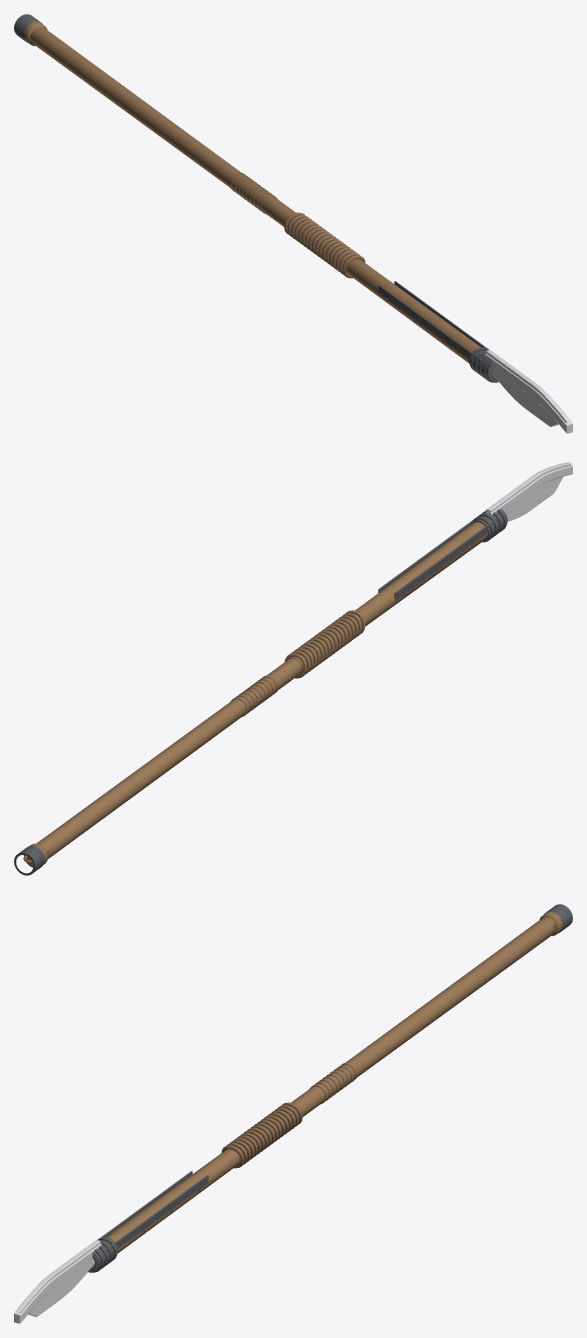
File: spear-0.glb
The picture shows the model from 3 angles, top to bottom: view 1: azimuth 30°, elevation 25°; view 2: azimuth 150°, elevation 25°; view 3: azimuth 330°, elevation 25°; orthographic projection.
Visible parts, largest first — view 1: spear; view 2: spear; view 3: spear.
Part boxes in pixels (x1=…): spear: x1=14, y1=14, x2=572, y2=433; spear: x1=14, y1=462, x2=572, y2=875; spear: x1=14, y1=904, x2=572, y2=1323.
Bounding box in the file's own units: 0.0426 × 0.0529 × 1.76.
